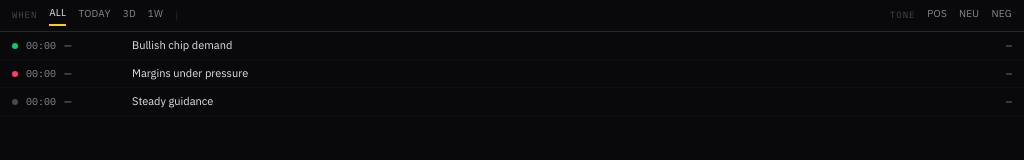
Test: NewsColumn sentiment filter (client-side) › hides non-matching articles when a sentiment pill is active
# Activate the POS pill via the NewsFilters strip.
Click the button "POS".
click(937, 16)  # box [927, 6, 947, 24]
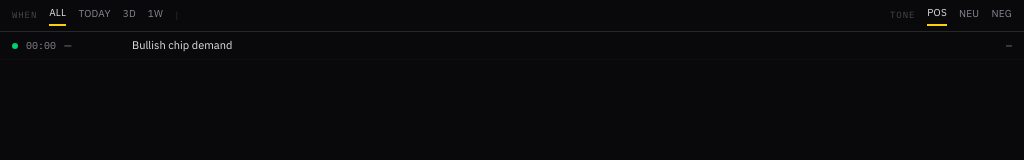
Expected: the text "Bullish chip demand" is shown, [132, 38, 232, 52]
Expected: the link "Margins under pressure" is gone
Expected: the link "Steady guidance" is gone
